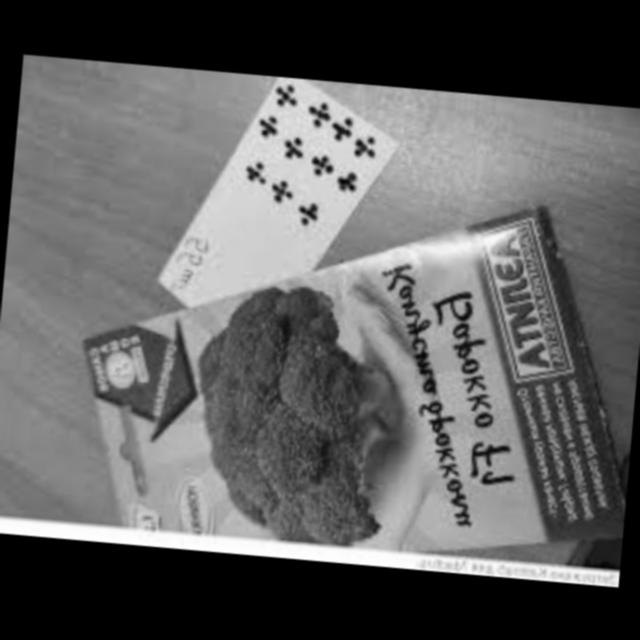broccoli: (168, 288, 428, 555)
